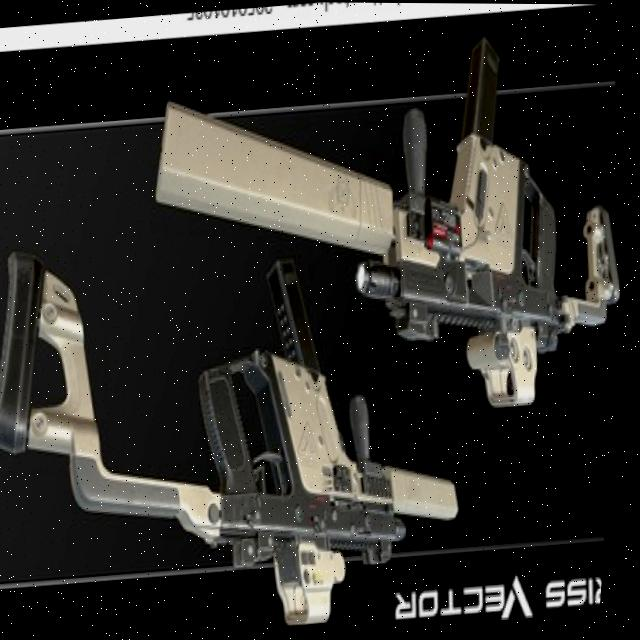firearm: (132, 23, 639, 433), (0, 214, 486, 640)
